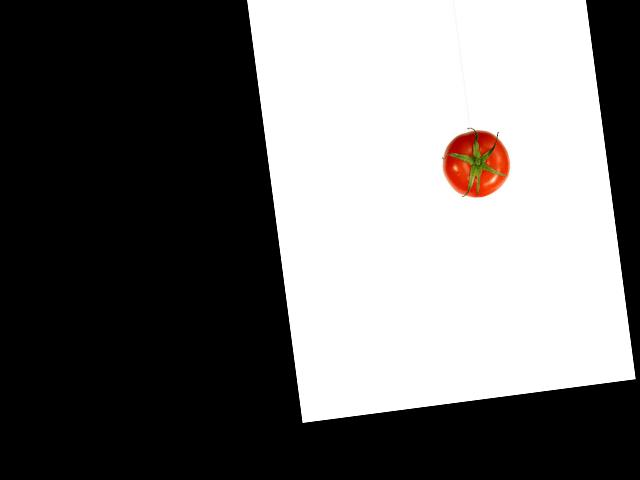tomato: (438, 127, 513, 202)
